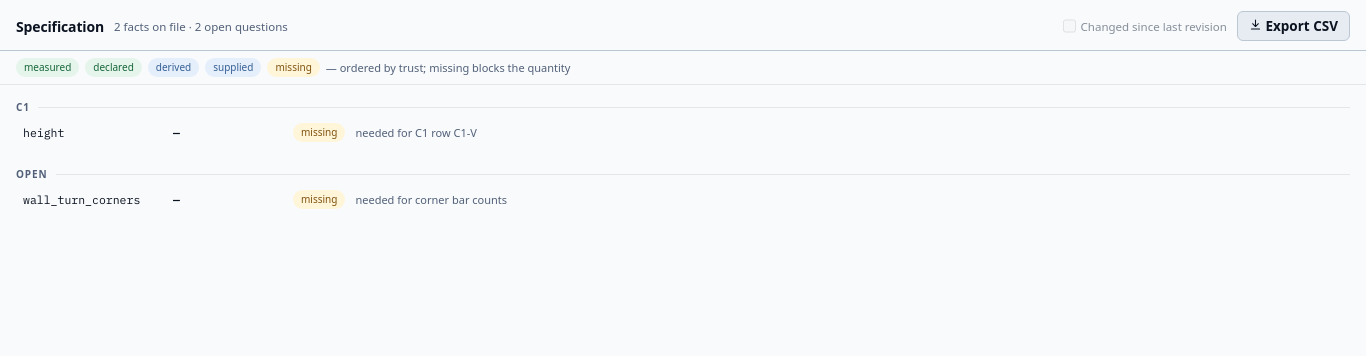
a run's escalations reach the Specification as answerable questions › shows each one with its ask, where the run looked, and an answer input
Check: the element with test id "spec-view" shows "2 open questions", box top-left (186, 18), bottom-right (288, 34)
Check: the 2nd text with test id "fact-chip" reads "missing", box top-left (301, 125), bottom-right (337, 139)
Step 1. Click the button "height — missing needed for C1 row C1-V" → (44, 132), box top-left (16, 117), bottom-right (1350, 148)
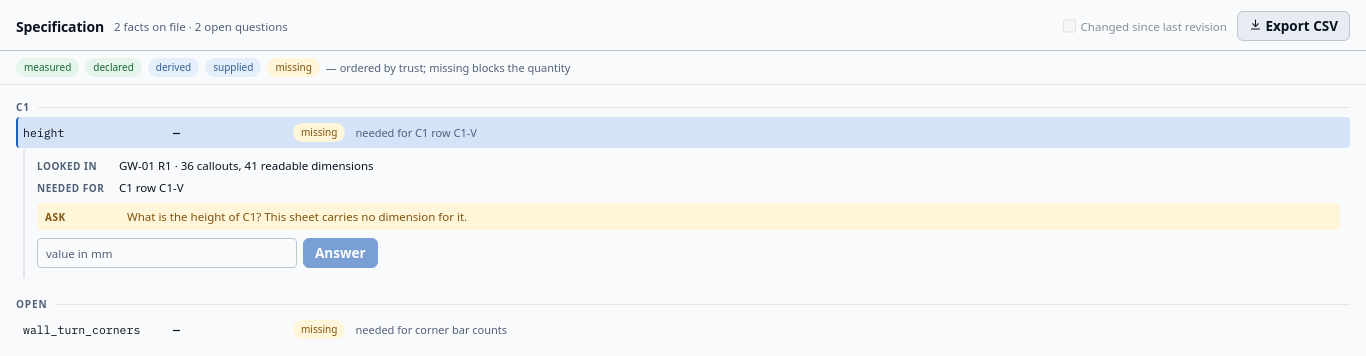
Check: the element with test id "fact-detail-C1.height" shows "C1 row C1-V", box top-left (119, 180), bottom-right (184, 195)
Check: the element with test id "fact-detail-C1.height" shows "36 callouts, 41 readable dimensions", box top-left (119, 158), bottom-right (374, 173)
Check: the element with test id "fact-detail-C1.height" shows "height of C1", box top-left (127, 209), bottom-right (467, 224)
